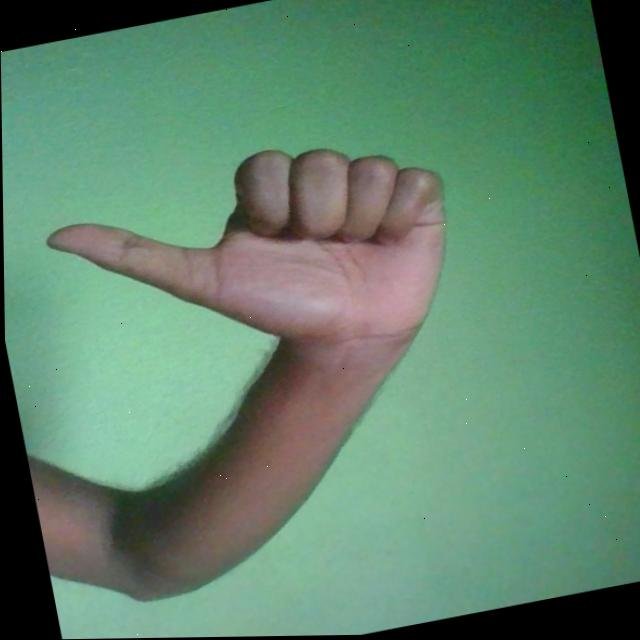Dislike: (35, 119, 471, 401)
